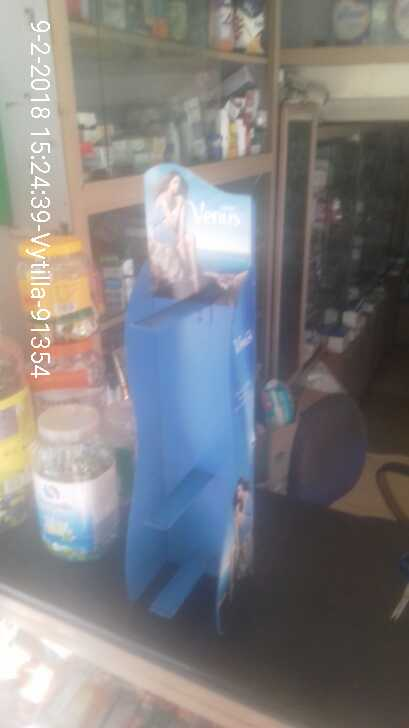reject: (213, 230, 335, 342)
